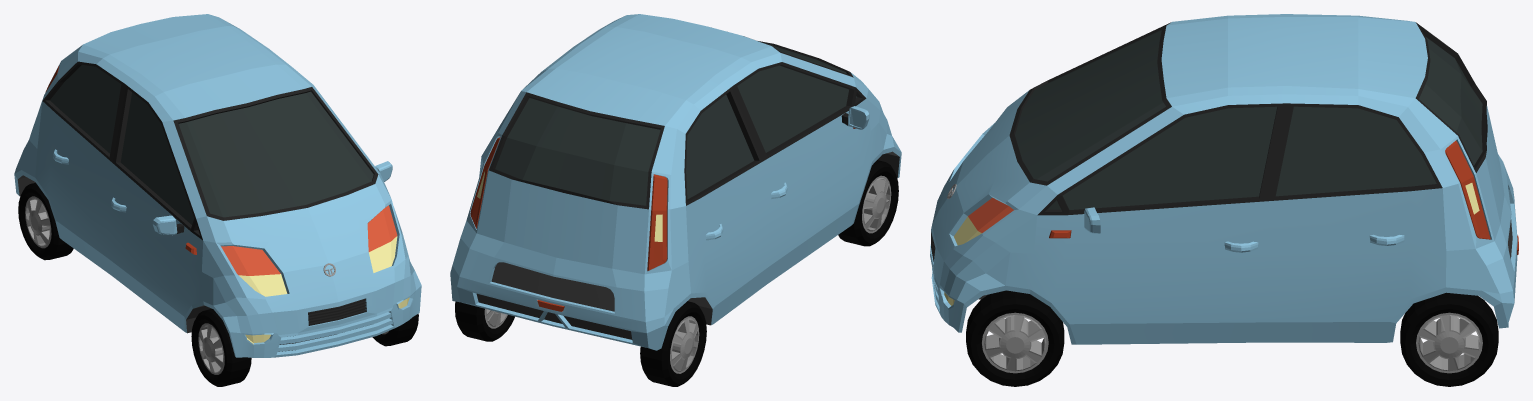
The model's file is Nano.fbx.
3 views of the same model, side by side, from view 1: azimuth 30°, elevation 25°; view 2: azimuth 150°, elevation 25°; view 3: azimuth 270°, elevation 25° (orthographic). The views are drawn at different scales.
Parts seen in each view (by area): view 1: Body, Frontright Wheel.005, Backright Wheel.005, Frontleft Wheel.004; view 2: Body, Backright Wheel.005, Frontright Wheel.005, Backleft Wheel.004; view 3: Body, Frontleft Wheel.004, Backleft Wheel.004.
Boxes of the visible parts, left/top/right/bottom form: Body: left=14, top=14, right=421, bottom=357; Frontright Wheel.005: left=191, top=309, right=251, bottom=386; Backright Wheel.005: left=18, top=182, right=73, bottom=260; Frontleft Wheel.004: left=372, top=314, right=418, bottom=346; Body: left=450, top=14, right=901, bottom=350; Backright Wheel.005: left=640, top=301, right=706, bottom=386; Frontright Wheel.005: left=838, top=160, right=898, bottom=246; Backleft Wheel.004: left=455, top=301, right=514, bottom=341; Body: left=930, top=14, right=1518, bottom=344; Frontleft Wheel.004: left=966, top=290, right=1064, bottom=386; Backleft Wheel.004: left=1400, top=292, right=1498, bottom=386.
Bounding box in the file's own units: 111 × 101 × 191.
4 materials, 1 textured.
